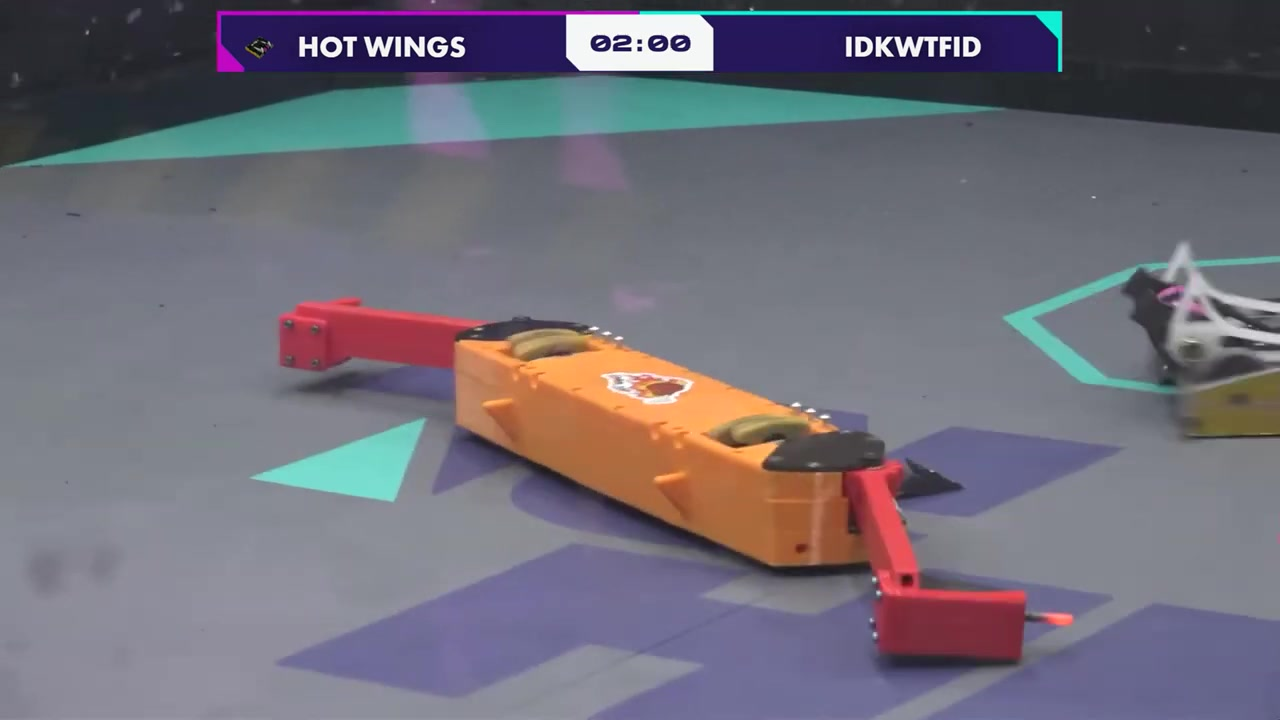combatbot: (454, 321, 894, 573), (1125, 240, 1280, 443)
